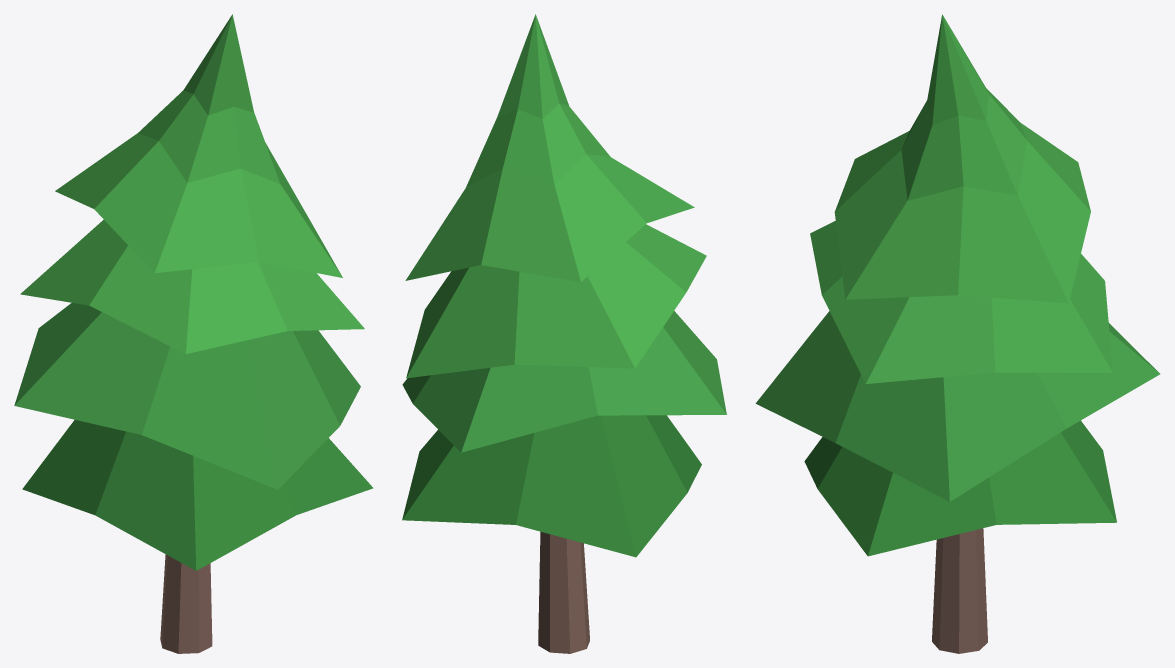
Rendered from Tree_058.glb.
3 renders of one model, left to right at view 1: azimuth 30°, elevation 25°; view 2: azimuth 150°, elevation 25°; view 3: azimuth 270°, elevation 25°, orthographic. The views are drawn at different scales.
Visible parts, largest first — view 1: Tree_058; view 2: Tree_058; view 3: Tree_058.
Part boxes in pixels (<box>): Tree_058: <box>14,14,373,653</box>; Tree_058: <box>402,14,726,653</box>; Tree_058: <box>755,14,1160,653</box>.
Bounding box in the file's own units: 3.63 × 6.41 × 3.64.
1 material, 1 textured.
